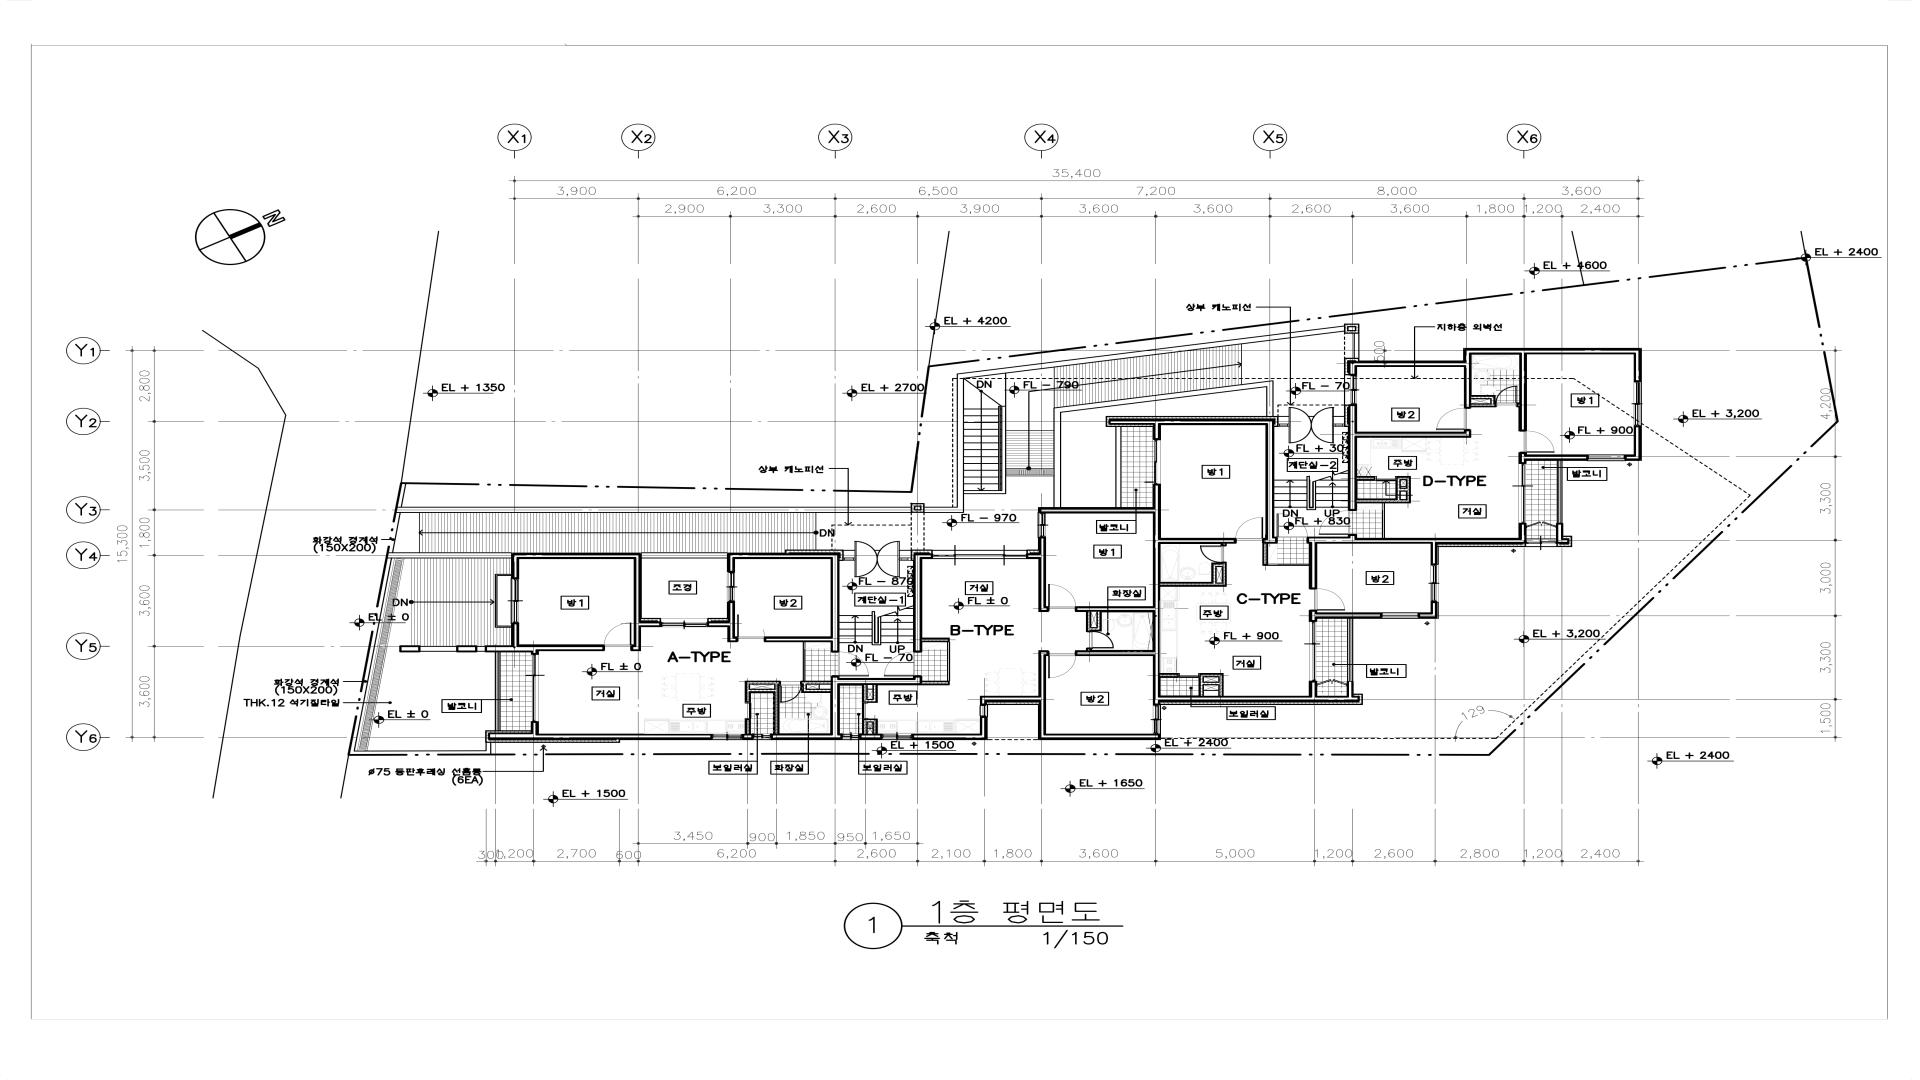door: (855, 541, 899, 578), (1288, 407, 1335, 443), (837, 651, 869, 676), (1276, 513, 1308, 538), (1319, 510, 1350, 535), (884, 651, 914, 676), (1047, 584, 1076, 609), (604, 622, 632, 647), (1315, 588, 1345, 611), (1436, 407, 1466, 430), (1524, 430, 1555, 452), (1048, 654, 1076, 678), (737, 615, 765, 638), (1236, 517, 1262, 541), (779, 680, 802, 703), (1087, 632, 1114, 649), (1495, 386, 1518, 407), (1200, 546, 1226, 563), (1375, 476, 1396, 481), (745, 703, 752, 719), (862, 703, 868, 719)
wall: (924, 326, 1344, 513), (1054, 380, 1274, 508), (727, 553, 839, 651), (1038, 650, 1160, 740), (1464, 348, 1642, 381), (1431, 524, 1526, 564), (396, 506, 911, 513), (510, 553, 642, 578), (1348, 355, 1472, 376), (913, 553, 932, 651), (1153, 695, 1360, 704), (1262, 415, 1276, 543), (488, 732, 712, 740), (913, 717, 988, 740), (1153, 484, 1160, 695), (1106, 415, 1160, 440), (1160, 415, 1265, 426), (632, 558, 642, 651), (1348, 405, 1357, 510), (1308, 535, 1431, 543), (1357, 430, 1472, 438), (520, 645, 604, 654), (840, 676, 923, 686), (1038, 537, 1047, 612), (386, 553, 510, 558), (785, 550, 844, 560), (1038, 506, 1153, 512), (1519, 355, 1527, 430), (1626, 426, 1642, 462), (642, 553, 727, 559), (980, 696, 1038, 705), (1160, 702, 1362, 704), (831, 676, 840, 733), (1076, 650, 1153, 657), (1160, 538, 1236, 545), (771, 733, 841, 740), (1317, 612, 1382, 618), (727, 603, 737, 642), (1308, 543, 1317, 588), (1076, 607, 1153, 612), (1527, 455, 1588, 462), (485, 740, 620, 742), (1160, 582, 1226, 587), (765, 637, 831, 642), (1464, 367, 1472, 407), (1419, 603, 1439, 618), (1344, 357, 1360, 376), (1357, 498, 1411, 504), (1556, 524, 1569, 545), (510, 624, 520, 653), (774, 684, 779, 733), (1439, 545, 1526, 547), (862, 719, 878, 733), (911, 550, 932, 560), (485, 645, 512, 653), (1556, 535, 1572, 547), (641, 618, 661, 628), (707, 618, 727, 628), (456, 645, 477, 653), (400, 645, 421, 653), (1344, 323, 1360, 334), (858, 733, 882, 740), (1262, 543, 1269, 566), (922, 680, 949, 686), (922, 637, 949, 642), (986, 703, 1038, 705), (745, 680, 779, 684), (1085, 612, 1092, 632), (807, 688, 831, 694), (1354, 334, 1360, 357), (1309, 680, 1317, 696), (1199, 673, 1204, 696), (750, 688, 774, 694), (911, 504, 924, 513), (1344, 405, 1349, 427), (488, 731, 531, 733), (802, 680, 831, 684), (745, 719, 752, 735), (1160, 673, 1180, 678), (1204, 673, 1224, 678), (1096, 612, 1102, 628), (1357, 476, 1375, 481), (1406, 480, 1411, 498), (1218, 678, 1224, 696), (1212, 563, 1217, 582), (1027, 550, 1038, 559), (745, 684, 750, 703), (531, 721, 539, 733), (1472, 404, 1495, 407), (1472, 396, 1495, 400), (1519, 452, 1527, 464), (862, 686, 868, 703), (1396, 476, 1400, 498), (872, 686, 878, 699), (1309, 611, 1317, 621), (1348, 682, 1353, 696), (1221, 567, 1226, 582), (1274, 415, 1279, 427), (1204, 682, 1218, 686), (742, 735, 753, 740), (802, 684, 807, 694), (868, 699, 878, 703), (1400, 476, 1411, 480), (1092, 628, 1102, 632), (1217, 563, 1226, 567), (485, 731, 488, 740), (1360, 694, 1362, 702), (1400, 488, 1406, 492), (1490, 400, 1495, 404), (1204, 690, 1218, 691), (1353, 694, 1360, 696), (1221, 543, 1226, 546), (1518, 402, 1519, 407), (1087, 649, 1092, 650), (819, 684, 820, 688), (868, 688, 872, 690)
window: (932, 550, 1027, 559), (1116, 427, 1122, 508), (495, 653, 501, 731), (531, 654, 538, 721), (661, 618, 708, 628), (1556, 462, 1563, 524), (1309, 621, 1316, 680), (1519, 464, 1526, 524), (510, 578, 518, 624), (1634, 381, 1642, 426), (1348, 618, 1353, 682), (1431, 564, 1439, 603), (1154, 439, 1160, 484), (1526, 538, 1556, 547), (1588, 455, 1626, 462), (1382, 612, 1419, 618), (727, 572, 735, 603), (1153, 704, 1160, 733), (882, 733, 913, 740), (1350, 375, 1357, 405), (1038, 512, 1046, 537), (421, 646, 456, 651), (712, 735, 742, 740), (841, 733, 858, 740), (753, 735, 771, 740), (980, 705, 988, 717), (1180, 675, 1199, 678), (477, 646, 485, 651), (1333, 423, 1344, 427), (1279, 423, 1290, 427), (899, 558, 911, 560), (844, 558, 855, 560)
